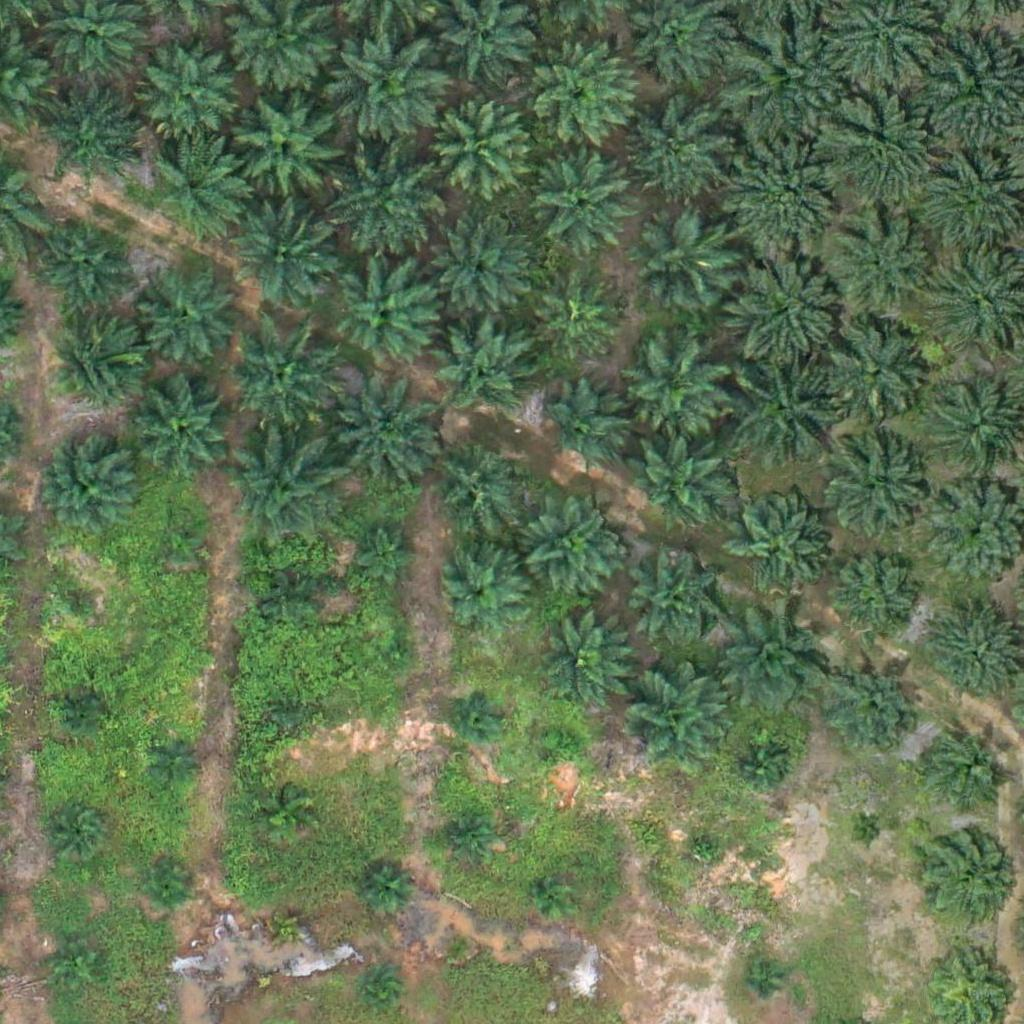Kelapa_Sawit: (326, 27, 451, 153), (728, 20, 853, 146), (725, 129, 850, 255), (816, 94, 941, 220), (720, 246, 845, 371), (329, 378, 442, 491), (327, 148, 440, 261), (729, 357, 842, 470), (720, 606, 833, 719), (526, 42, 638, 156), (228, 322, 340, 435), (224, 430, 336, 543), (627, 430, 727, 531), (522, 499, 622, 600), (433, 223, 533, 324), (433, 317, 533, 418), (426, 436, 526, 537), (334, 263, 434, 364), (238, 99, 338, 200), (231, 196, 331, 297), (132, 379, 232, 480), (139, 267, 239, 368), (148, 132, 248, 233), (135, 44, 235, 145), (39, 85, 139, 186), (39, 217, 139, 318), (43, 313, 143, 414), (728, 497, 828, 598), (825, 445, 925, 546), (823, 324, 923, 425), (828, 212, 928, 313), (914, 717, 1014, 818), (916, 823, 1016, 924), (627, 671, 727, 772), (627, 106, 727, 206), (635, 214, 735, 314), (623, 340, 723, 440), (534, 156, 634, 256), (431, 101, 531, 201), (35, 433, 135, 533), (917, 147, 1017, 247), (530, 611, 630, 711), (542, 384, 630, 472), (535, 276, 623, 364), (629, 554, 717, 642), (932, 388, 1020, 476), (440, 551, 527, 640), (829, 662, 916, 751), (828, 555, 915, 643), (49, 799, 112, 862), (356, 519, 418, 582), (260, 788, 310, 839), (357, 868, 407, 919), (735, 739, 785, 790), (53, 690, 103, 741), (153, 734, 203, 785), (265, 897, 315, 948), (52, 948, 102, 998), (156, 518, 206, 568), (52, 583, 102, 633), (267, 577, 317, 627), (441, 813, 491, 863), (454, 690, 504, 740), (544, 725, 582, 763), (535, 876, 573, 914), (687, 832, 725, 870), (849, 813, 887, 851), (150, 865, 188, 902), (273, 692, 310, 730), (378, 637, 415, 675), (739, 961, 776, 999), (436, 922, 473, 960), (362, 972, 399, 1009)
